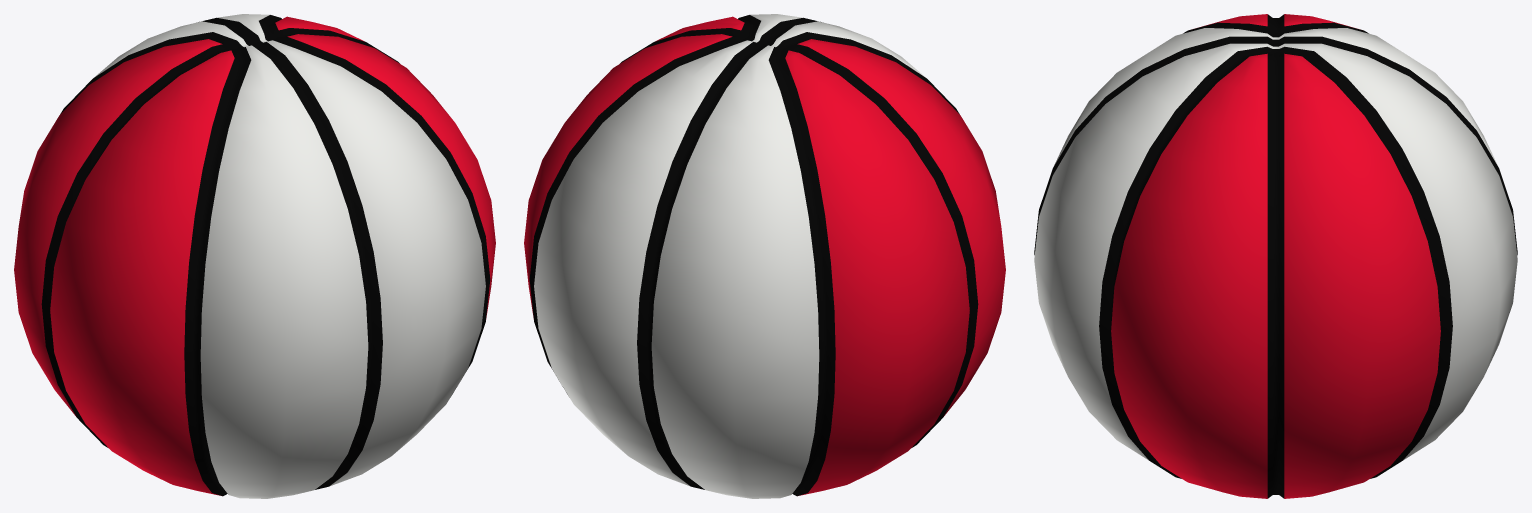
File: Basketball6.glb
3 renders of one model, left to right at view 1: azimuth 30°, elevation 25°; view 2: azimuth 150°, elevation 25°; view 3: azimuth 270°, elevation 25°, orthographic.
Visible parts, largest first — view 1: Sphere.005; view 2: Sphere.005; view 3: Sphere.005.
Part boxes in pixels (<box>): Sphere.005: <box>14,14,495,498</box>; Sphere.005: <box>524,14,1005,498</box>; Sphere.005: <box>1034,14,1517,498</box>.
Size of the model in its own units: 1.99 by 1.96 by 1.99.
